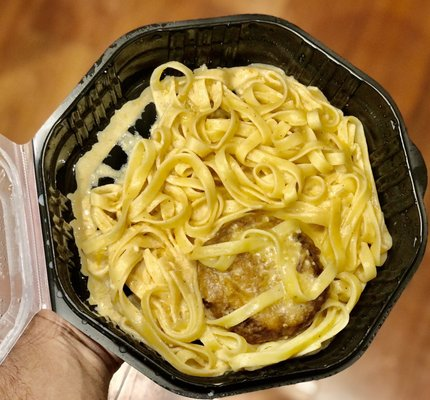sushi: (2, 13, 429, 400)
